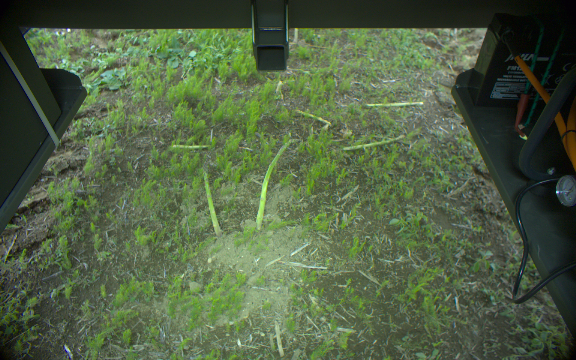aspa: (255, 138, 295, 229), (201, 156, 220, 237), (338, 134, 405, 148), (362, 97, 425, 110), (291, 109, 330, 126), (169, 141, 213, 153)
